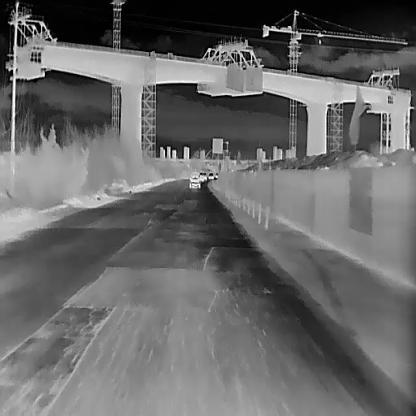car: (189, 172, 200, 188), (200, 173, 207, 181), (208, 172, 213, 179), (216, 172, 219, 178)
